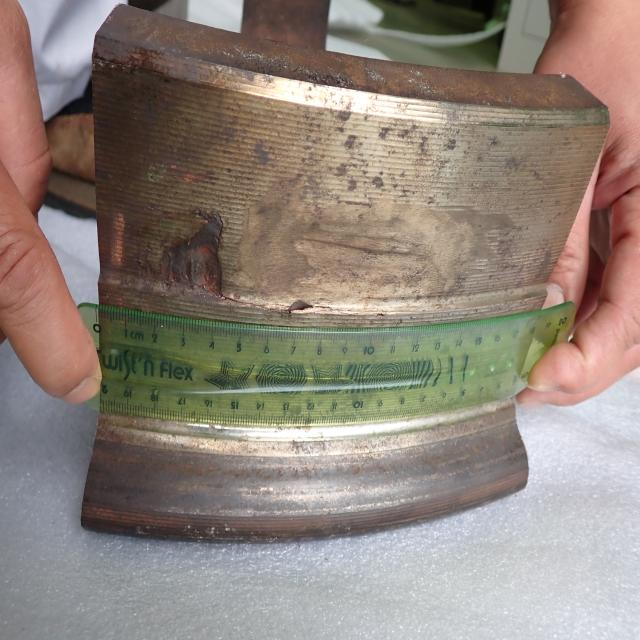Peeling: (163, 212, 228, 299)
